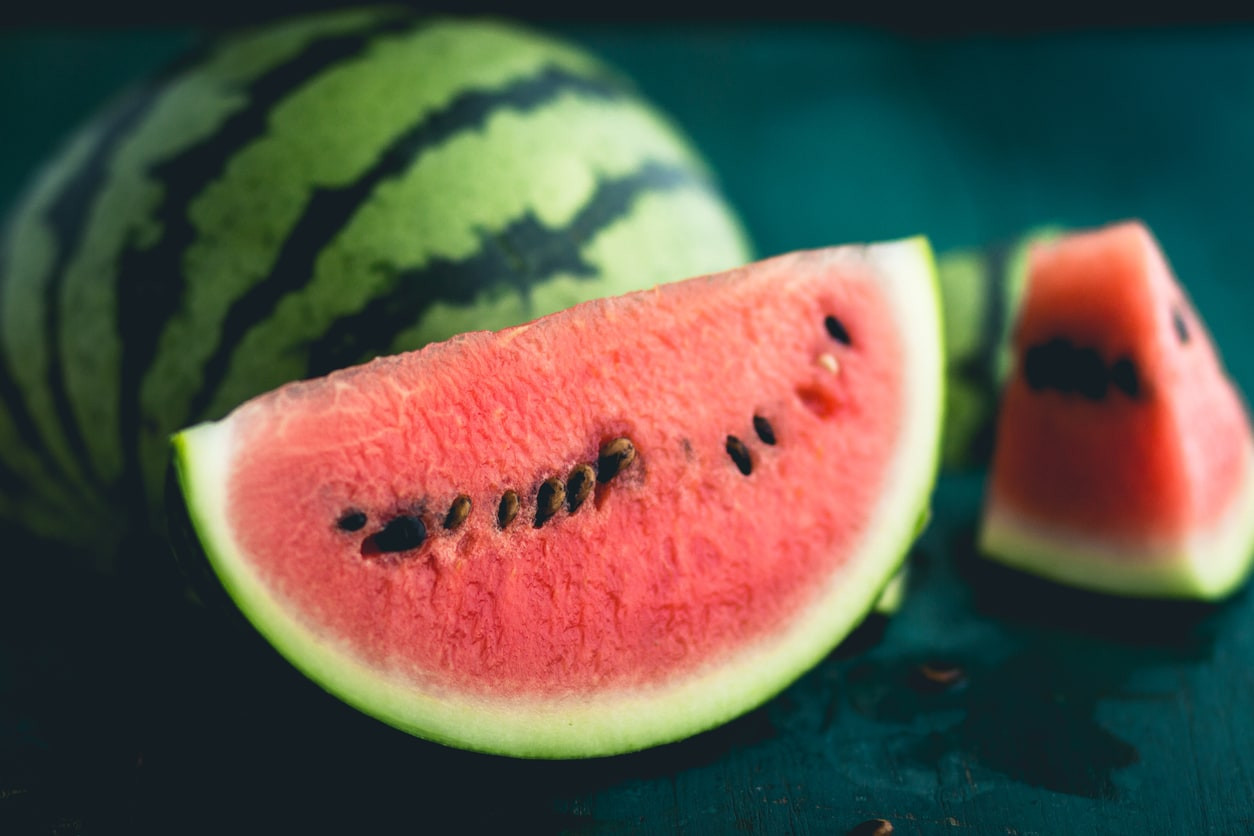Semangka: (145, 211, 969, 733), (969, 231, 1190, 631)
